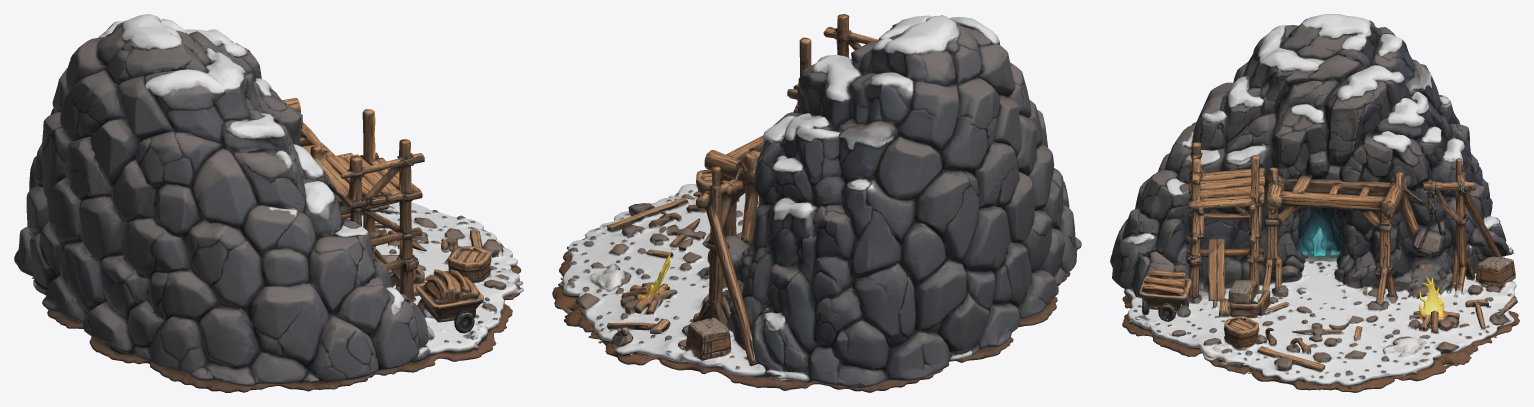
File: tripo_convert_ca49aa0f-b140-42c7-a8ec-42183994e198.fbx
3 views of the same model, side by side, from view 1: azimuth 30°, elevation 25°; view 2: azimuth 150°, elevation 25°; view 3: azimuth 270°, elevation 25° (orthographic). The views are drawn at different scales.
Parts seen in each view (by area): view 1: tripo_node_ca49aa0f; view 2: tripo_node_ca49aa0f; view 3: tripo_node_ca49aa0f.
Boxes of the visible parts, x1,y1,x2,y2 form: tripo_node_ca49aa0f: (14,14,523,392); tripo_node_ca49aa0f: (552,14,1081,392); tripo_node_ca49aa0f: (1110,14,1519,392).
Bounding box in the file's own units: 0.9722 × 0.6389 × 0.9803.
1 material, 1 textured.
